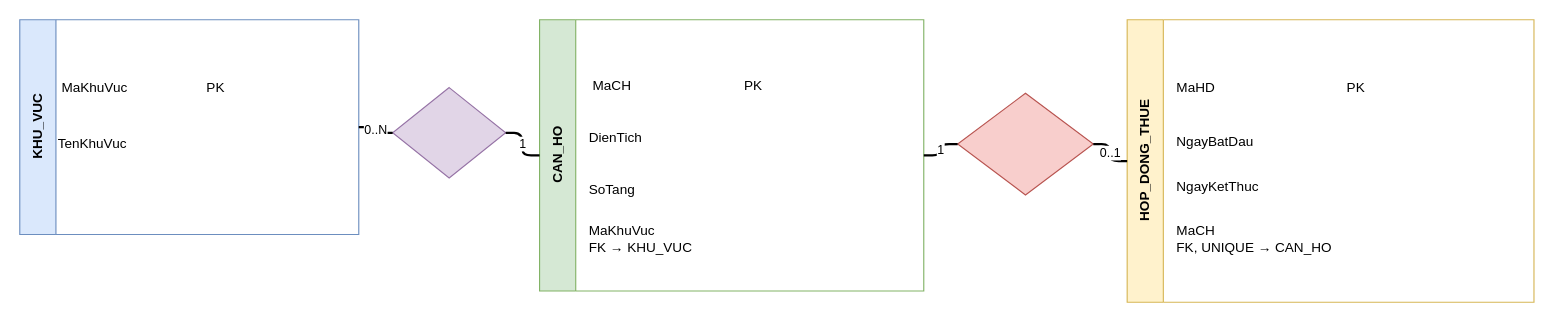
Image size: 1565x322. Some labels were removed from this diagram. The shapes that lost their labels are listed below. From the top down, each one's centre as x and y in pixels, then its label:
the point at 449,132: THUỘC VỀ 1 — N
the point at 1025,143: CÓ HIỆU LỰC 1 — 1 tùy chọn
